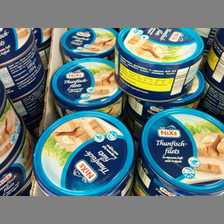fish: (34, 111, 135, 196), (137, 107, 224, 195), (116, 28, 204, 102), (49, 57, 125, 119), (60, 28, 116, 61)
